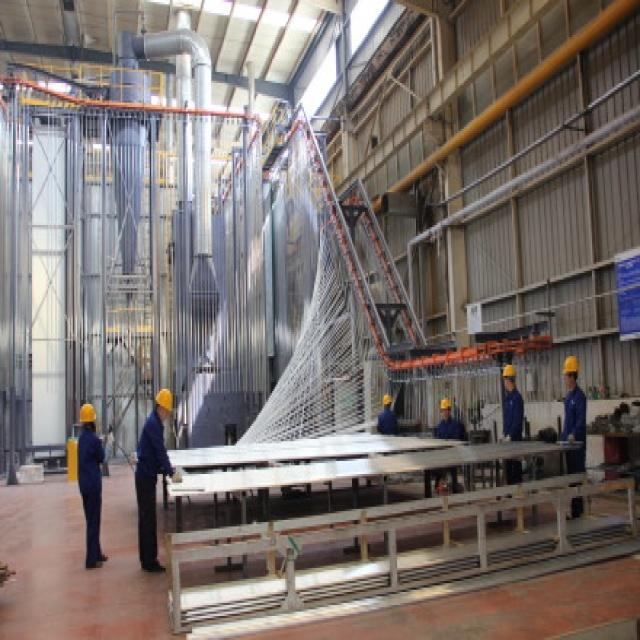helmet: (155, 516, 174, 563), (562, 476, 579, 525), (77, 536, 97, 577), (502, 484, 518, 521), (439, 527, 451, 561)
